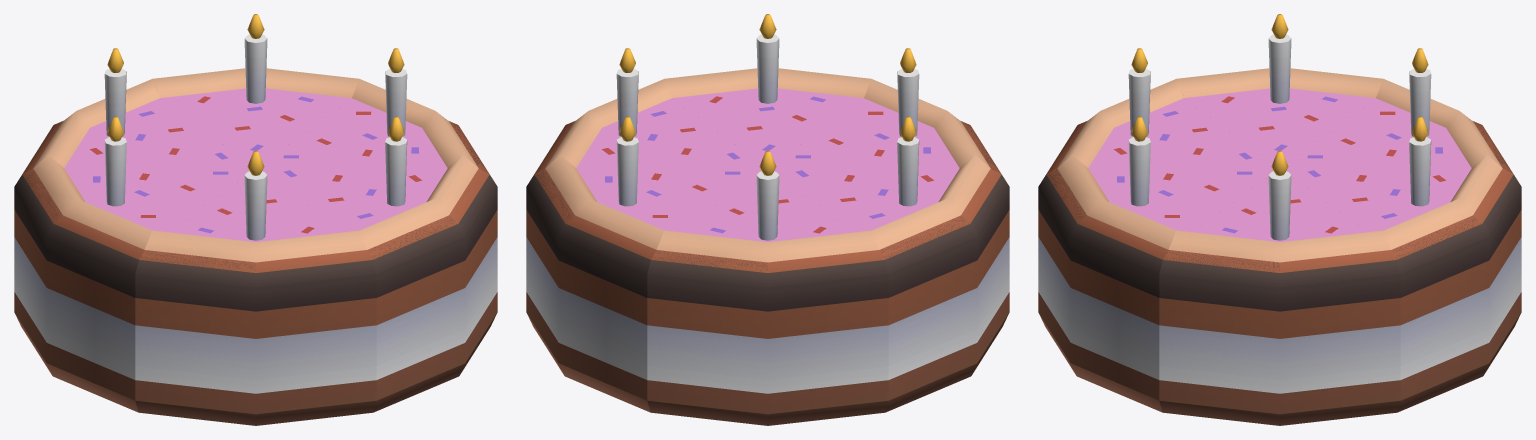
File: k-food-cake-birthday.glb
The picture shows the model from 3 angles, left to right: view 1: azimuth 30°, elevation 25°; view 2: azimuth 150°, elevation 25°; view 3: azimuth 270°, elevation 25°; orthographic projection.
Visible parts, largest first — view 1: slice (×6); view 2: slice (×6); view 3: slice (×6).
Part boxes in pixels (x1,y1,x2,y2): slice (×6): (14,14,497,425); slice (×6): (526,14,1009,425); slice (×6): (1038,14,1521,425).
Bounding box in the file's own units: 0.6392 × 0.3638 × 0.6392.
Materials: 1 (1 with a texture image).
